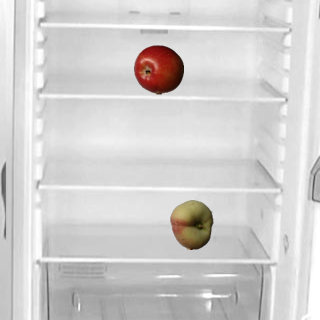Apple Braeburn: (133, 44, 183, 94)
Peach Flat: (166, 199, 216, 249)
